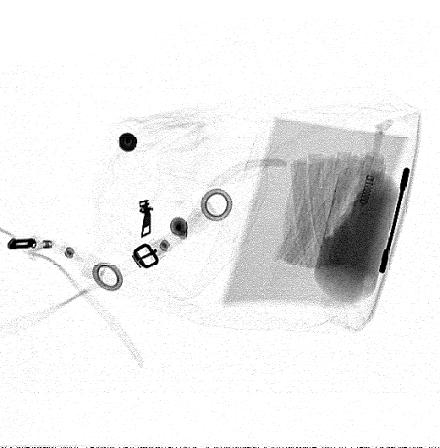Wrench: (377, 167, 412, 275)
